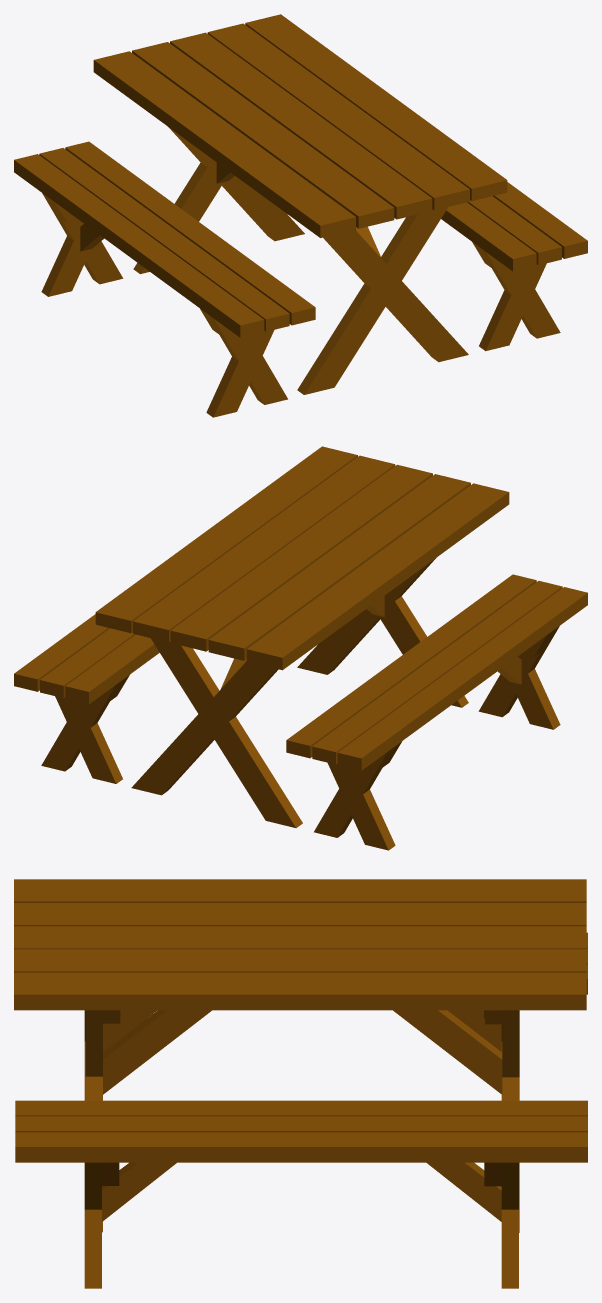
The model's file is Picnic-Table.glb.
3 renders of one model, top to bottom at view 1: azimuth 30°, elevation 25°; view 2: azimuth 150°, elevation 25°; view 3: azimuth 270°, elevation 25°, orthographic. The views are drawn at different scales.
Visible parts, largest first — view 1: Table, Bench2, Bench1; view 2: Table, Bench2, Bench1; view 3: Table, Bench1, Bench2.
Part boxes in pixels (x1,y1,x2,y2): Table: [93, 14, 507, 394]; Bench2: [14, 141, 315, 417]; Bench1: [441, 182, 587, 351]; Table: [95, 446, 509, 827]; Bench2: [286, 574, 587, 850]; Bench1: [14, 614, 159, 783]; Table: [14, 879, 586, 1232]; Bench1: [15, 1100, 587, 1288]; Bench2: [84, 932, 587, 1100].
Bounding box in the file's own units: 0.1485 × 0.0788 × 0.168.
